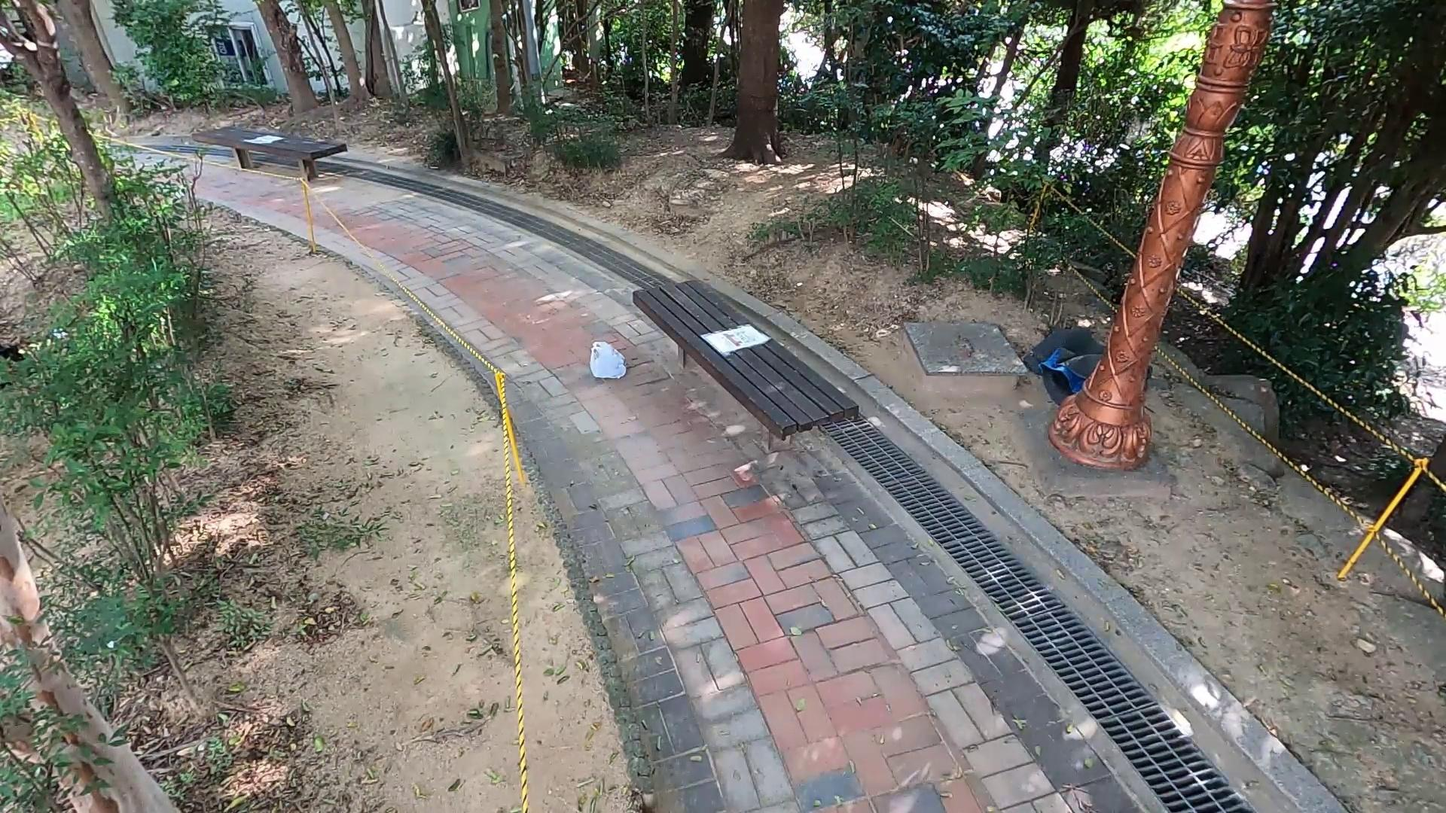trash: (1026, 326, 1113, 396), (588, 337, 629, 383)
